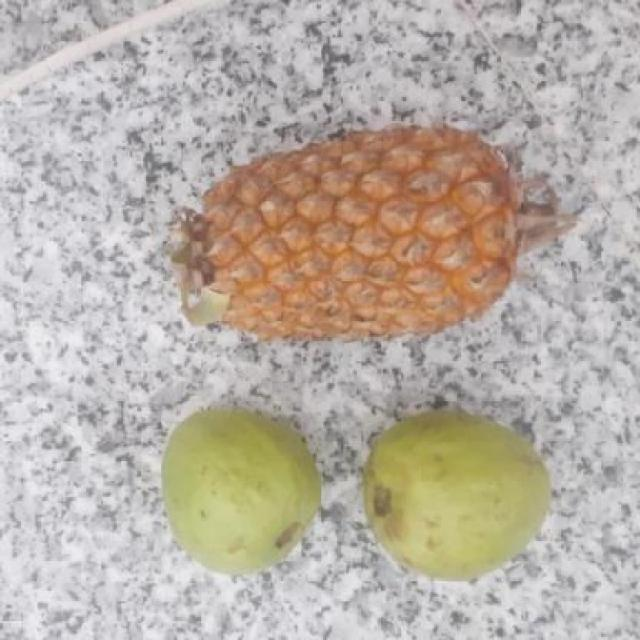guava: (355, 405, 550, 578), (155, 413, 322, 573)
pineapple: (172, 119, 543, 344)
